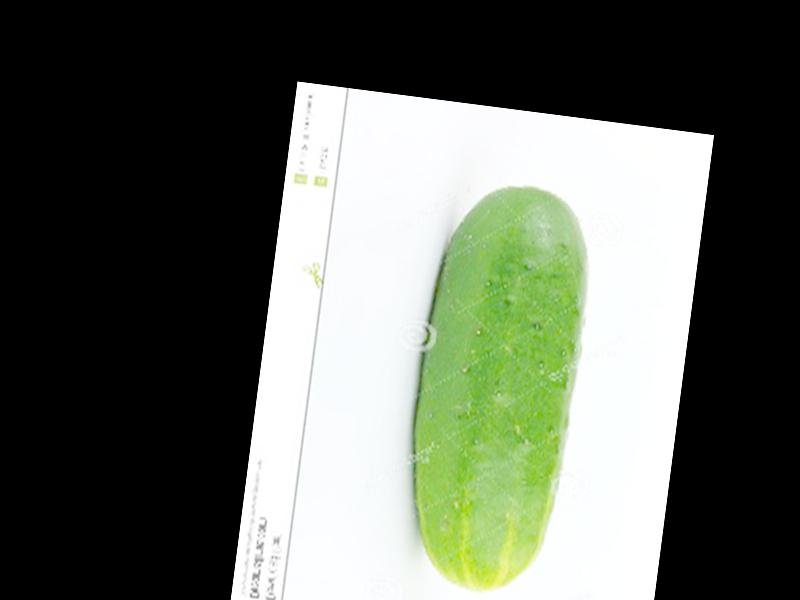Cucumber: (393, 174, 597, 598)
